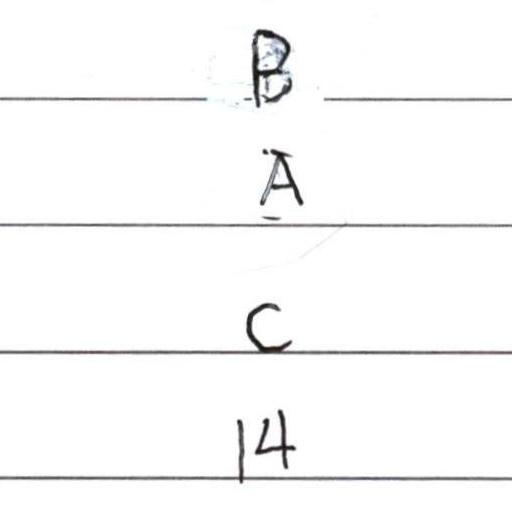ans: (232, 406, 296, 480), (242, 19, 294, 108), (243, 301, 294, 354), (259, 148, 303, 208)
